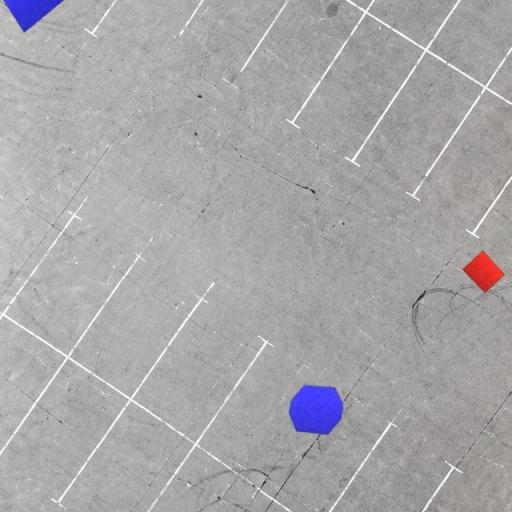BLUE_SQUARE: (0, 0, 72, 34)
RED_SQUARE: (462, 250, 506, 294)
